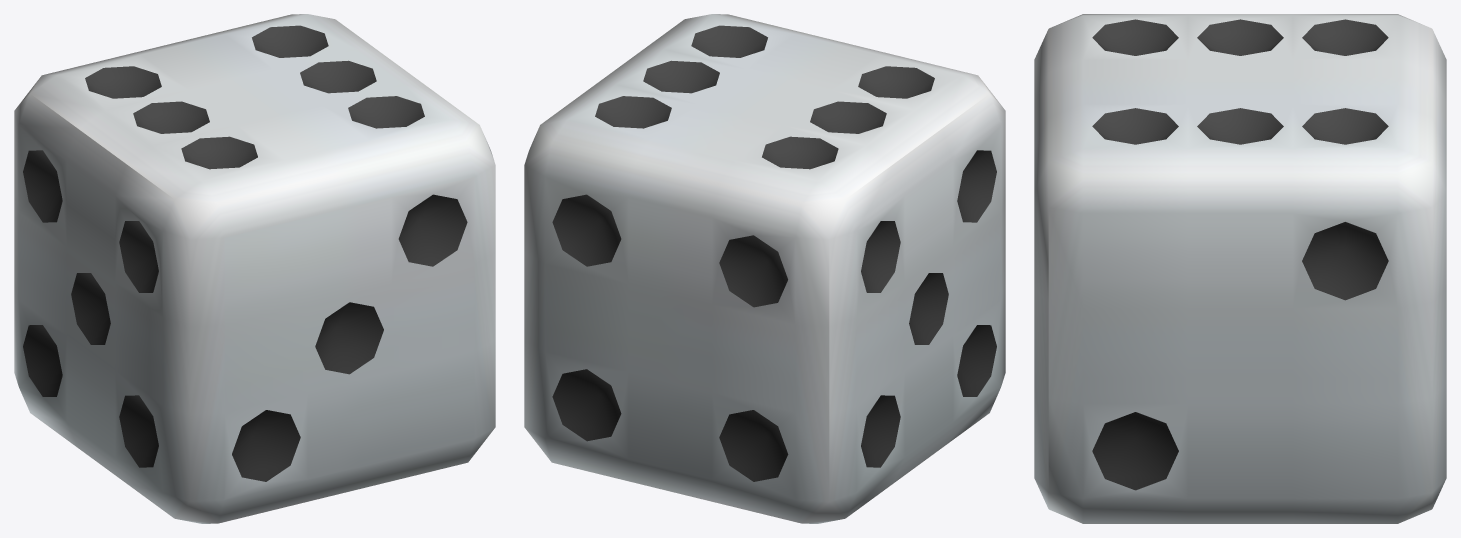
File: board.d6_a.glb
3 renders of one model, left to right at view 1: azimuth 30°, elevation 25°; view 2: azimuth 150°, elevation 25°; view 3: azimuth 270°, elevation 25°, orthographic. The views are drawn at different scales.
Parts seen in each view (by area): view 1: D6_A; view 2: D6_A; view 3: D6_A.
Boxes of the visible parts, x1=… form: D6_A: x1=14, y1=14, x2=495, y2=523; D6_A: x1=524, y1=14, x2=1005, y2=523; D6_A: x1=1034, y1=14, x2=1446, y2=523.
Bounding box in the file's own units: 0.02 × 0.02 × 0.02.
Materials: 1 (1 with a texture image).
